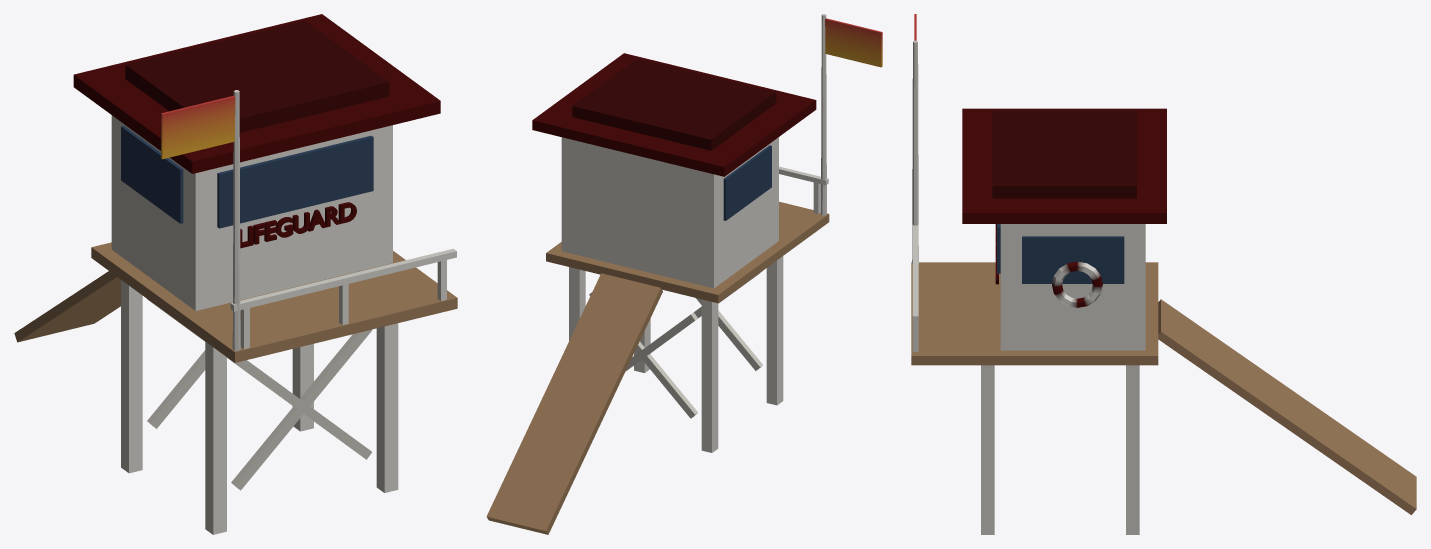
Rendered from Lifeguard_Tower.glb.
3 renders of one model, left to right at view 1: azimuth 30°, elevation 25°; view 2: azimuth 150°, elevation 25°; view 3: azimuth 270°, elevation 25°, orthographic. The views are drawn at different scales.
Parts seen in each view (by area): view 1: Lifeguard_Tower; view 2: Lifeguard_Tower; view 3: Lifeguard_Tower.
Boxes of the visible parts, x1,y1,x2,y2 form: Lifeguard_Tower: [14, 14, 457, 534]; Lifeguard_Tower: [486, 14, 882, 534]; Lifeguard_Tower: [911, 14, 1416, 534].
Size of the model in its own units: 3.58 by 5.34 by 5.93.
